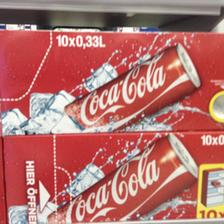Soda: (37, 133, 200, 223), (64, 44, 201, 132)
